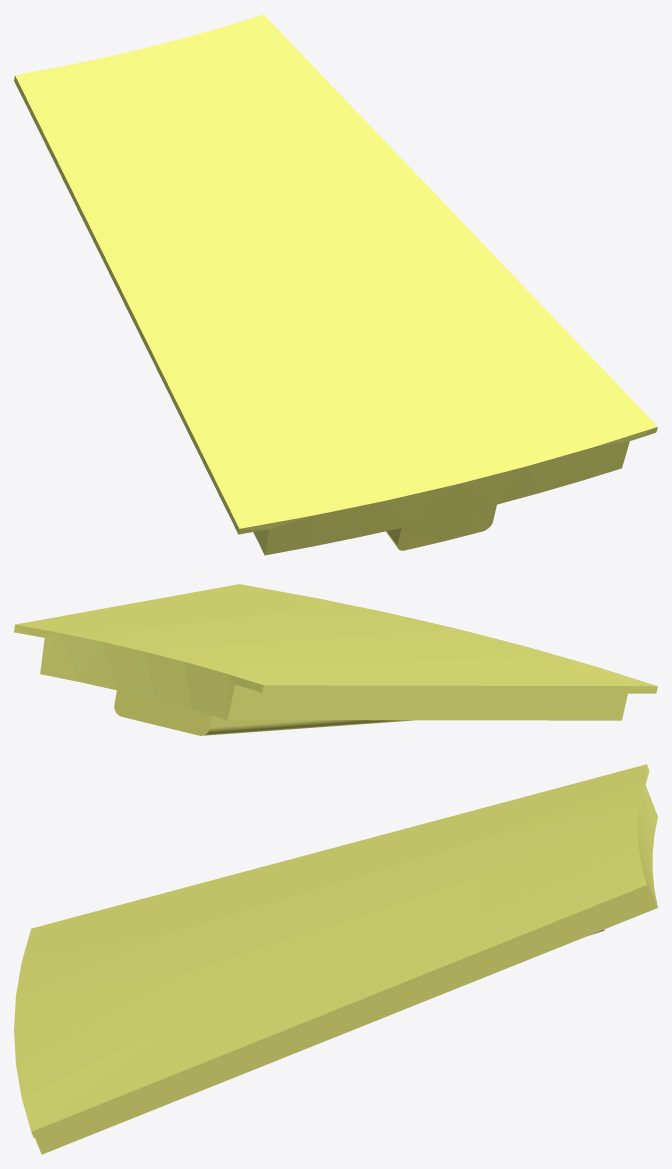
File: BallMill_Overflow_EndLiner_Composite_HiCr_Rubber_[W9_5724_6].glb
The picture shows the model from 3 angles, top to bottom: view 1: azimuth 30°, elevation 25°; view 2: azimuth 150°, elevation 25°; view 3: azimuth 270°, elevation 25°; orthographic projection.
Parts seen in each view (by area): view 1: Node2; view 2: Node2; view 3: Node2, Node3.
Boxes of the visible parts, bbox=[...] form: Node2: bbox=[14, 14, 657, 555]; Node2: bbox=[14, 584, 657, 735]; Node2: bbox=[14, 764, 657, 1137]; Node3: bbox=[35, 879, 657, 1154].
Size of the model in its own units: 0.9206 by 0.5752 by 1.23.
